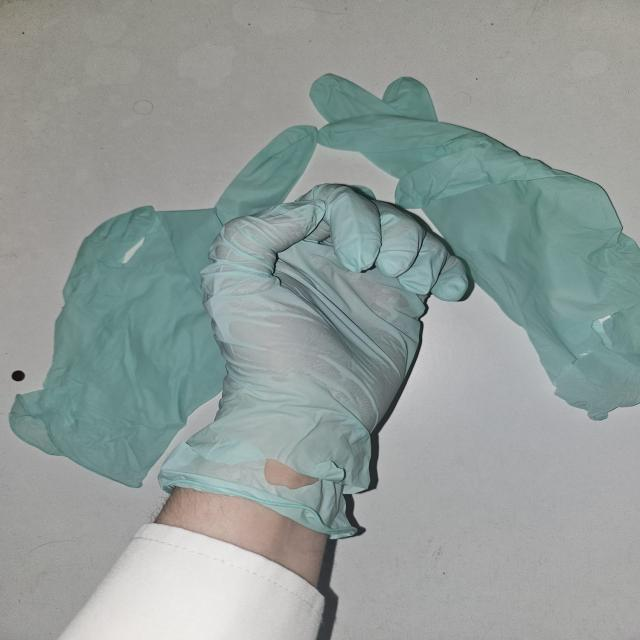gloves_damaged: (155, 180, 479, 541)
